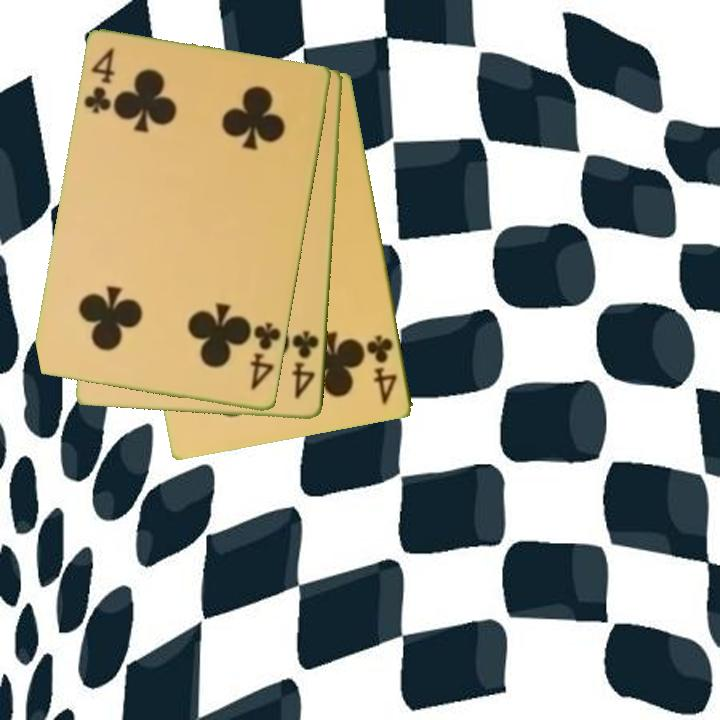4c: (363, 331, 401, 408), (246, 319, 284, 394), (80, 45, 119, 117), (289, 327, 322, 402)
